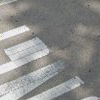crosswalk: (0, 26, 100, 100)
